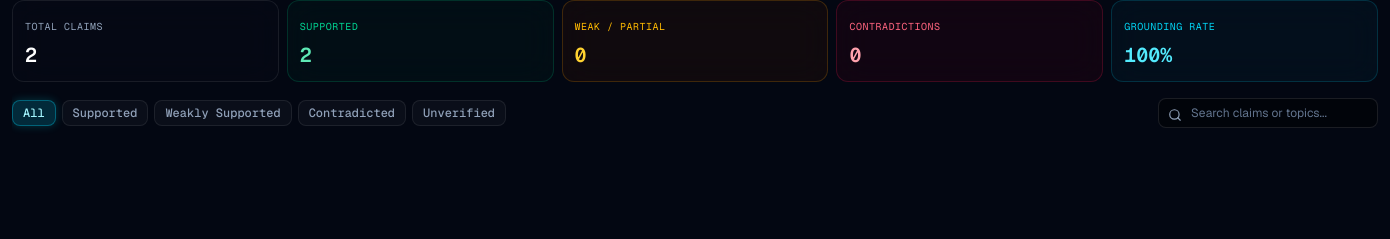
Test: Workspace Components and Views › ClaimMatrix filters claims by status and searches by keyword
Type "Bosonic" into the field with placeholder "Search claims or topics..." at (1268, 113), box x1=1158 y1=98 x2=1378 y2=128
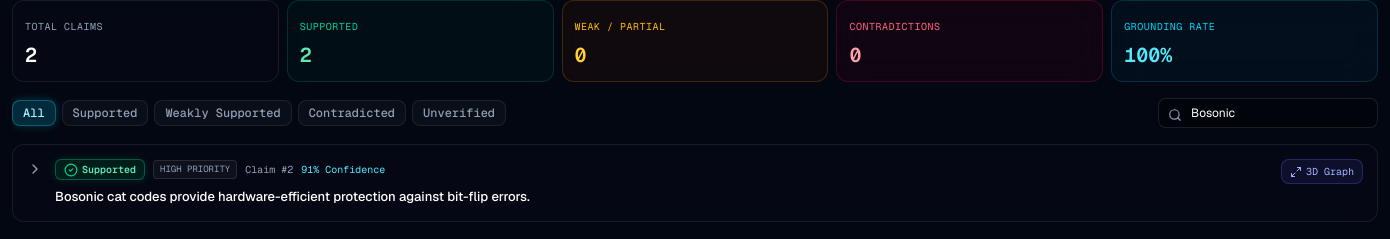
Expected: the text "Bosonic cat codes provide hardware-efficient" is shown, x1=55 y1=188 x2=530 y2=205
